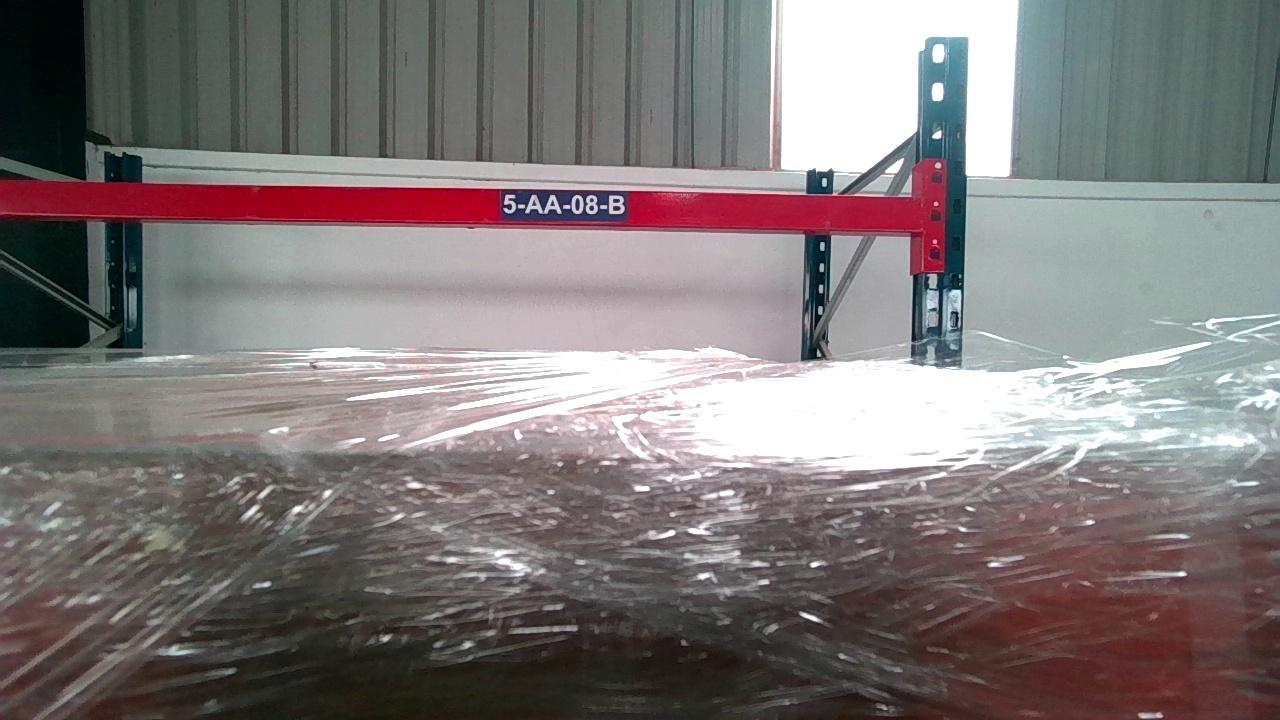h_rack: (0, 178, 923, 234)
